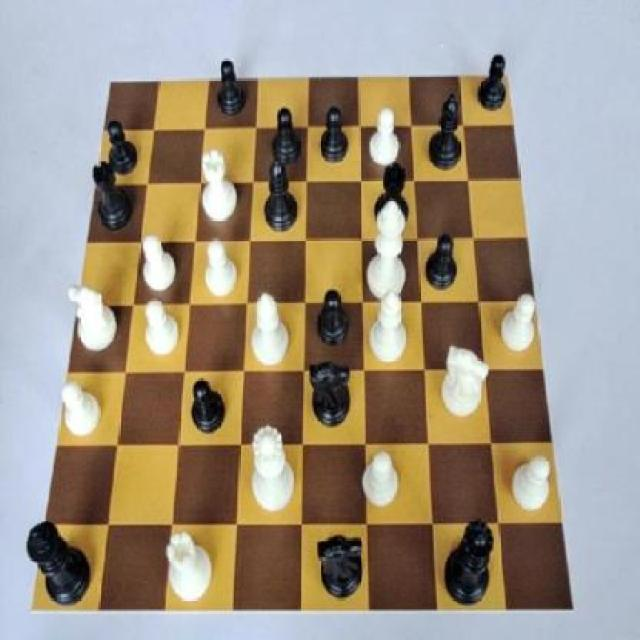bishop: (426, 92, 473, 178), (258, 154, 298, 238)
black-bishop: (20, 509, 92, 609)
black-king: (312, 523, 367, 615), (310, 355, 358, 440)
black-knight: (311, 277, 353, 354), (471, 43, 511, 122), (422, 226, 463, 302), (185, 369, 227, 442), (100, 118, 144, 184), (312, 97, 350, 172), (266, 104, 306, 170), (214, 50, 249, 124)
black-pawn: (440, 514, 498, 610)
black-queen: (91, 163, 135, 235), (374, 158, 412, 234)
black-rook: (363, 280, 412, 369), (248, 286, 292, 370)
white-bishop: (364, 199, 414, 303)
white-king: (440, 342, 497, 432), (65, 274, 119, 362)
white-knight: (506, 438, 556, 524), (54, 374, 108, 444), (494, 286, 543, 360), (358, 443, 402, 519), (137, 294, 183, 362), (368, 94, 403, 178), (202, 231, 243, 300), (140, 234, 182, 300)
white-pawn: (244, 425, 298, 519)
white-queen: (192, 146, 243, 239), (163, 523, 219, 604)
